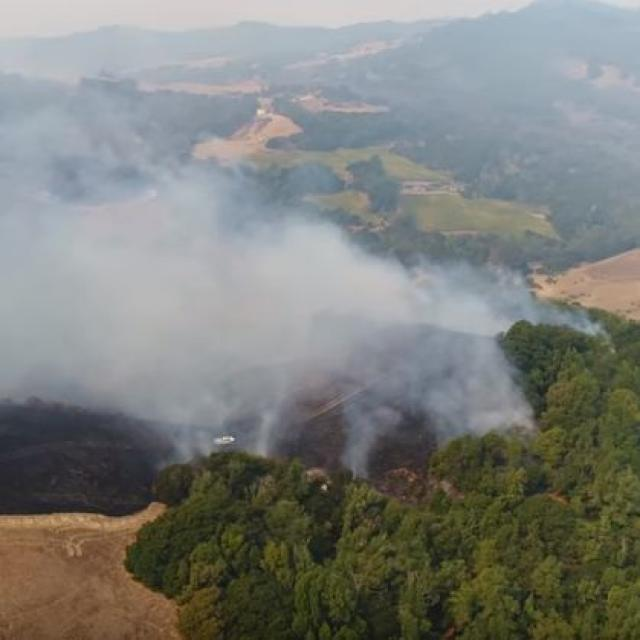Smoke: (0, 116, 634, 557)
